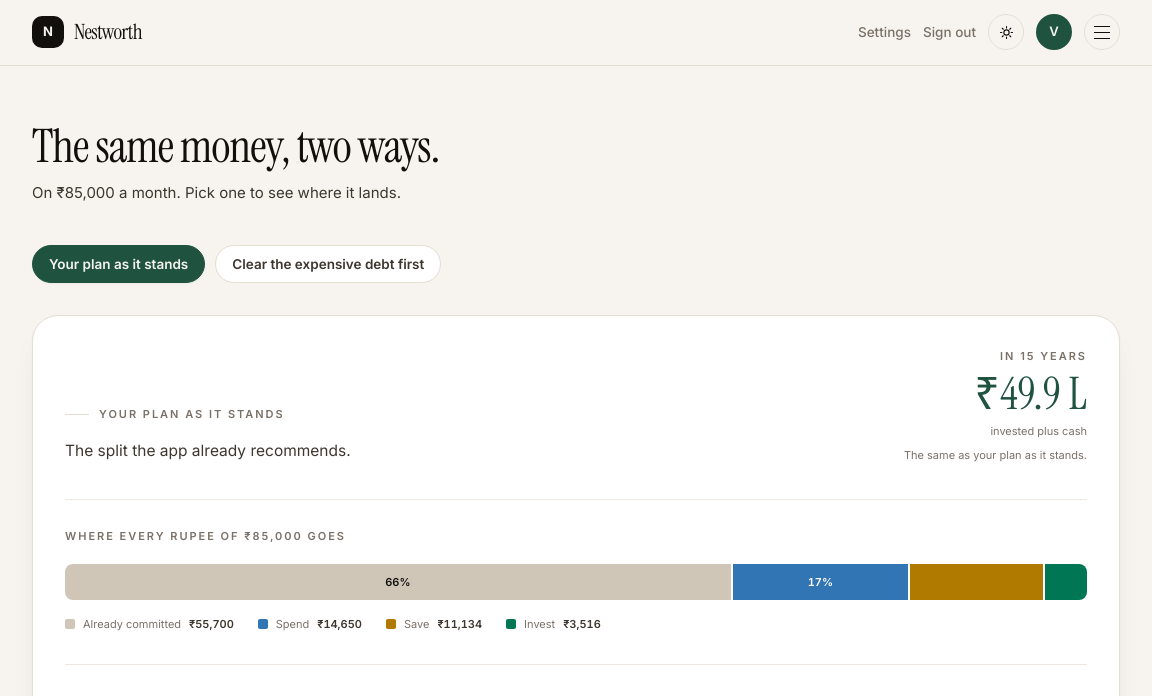
following a plan is a separate step from reading one
Expected: the heading "The same money, two ways." is shown, [32, 122, 440, 171]
# Reading a different plan does not follow it.
Click the button "Clear the expensive debt first".
click(328, 264)  # box [215, 245, 441, 284]
(page scrolled)
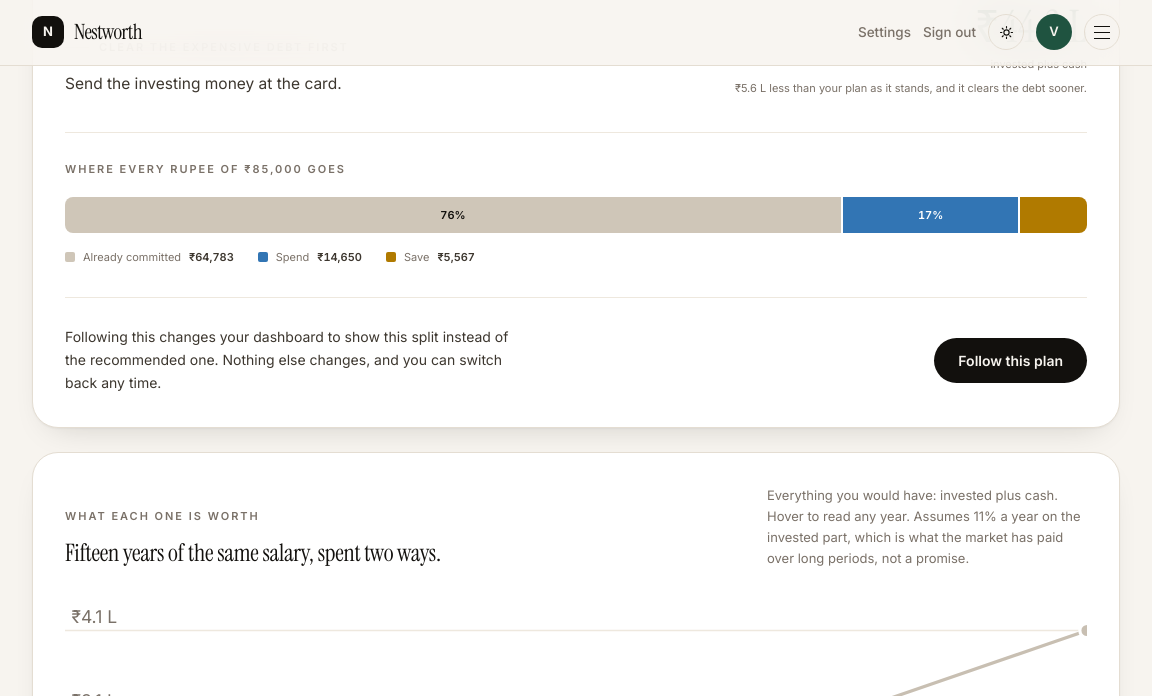
# Pressing the button does, and the button then offers the way back out.
Click the button "Follow this plan".
click(1011, 360)  # box [934, 338, 1087, 383]
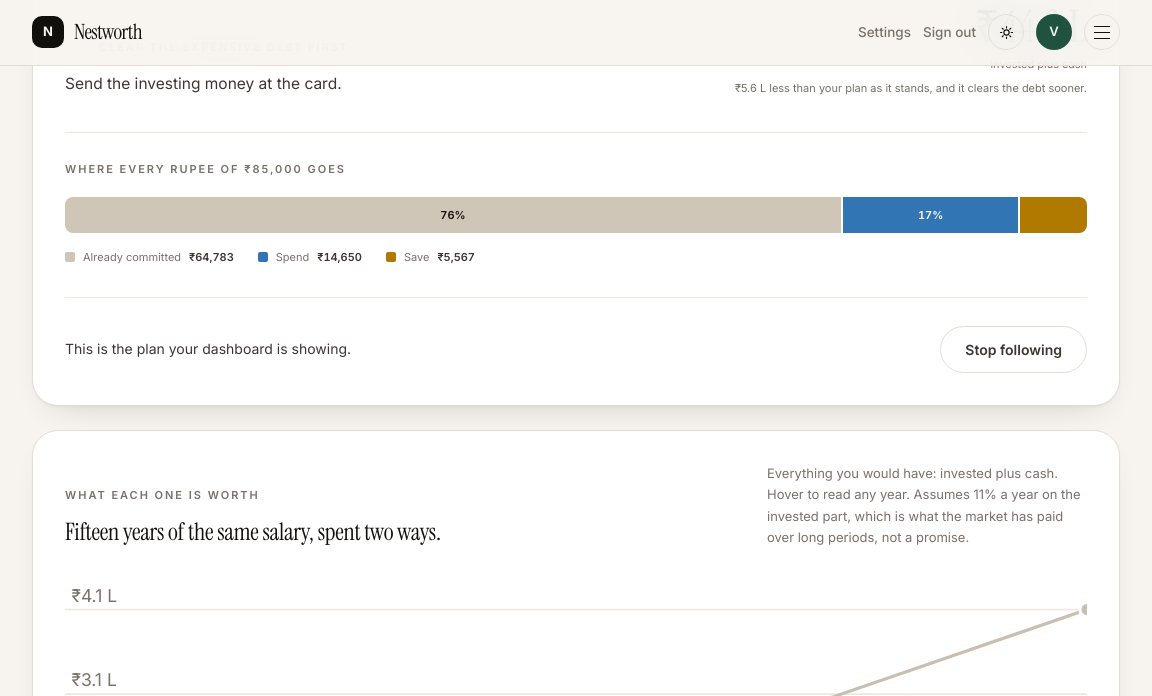
Now the button "Stop following" is shown, box [940, 326, 1087, 373]
Now the text "This is the plan your dashboard is showing." is shown, box [65, 338, 351, 361]
